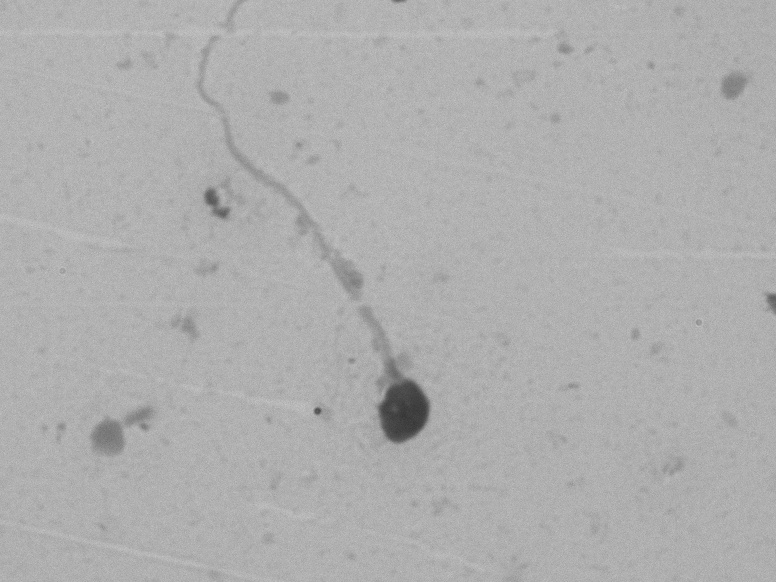Abnormal: (164, 15, 461, 466)
